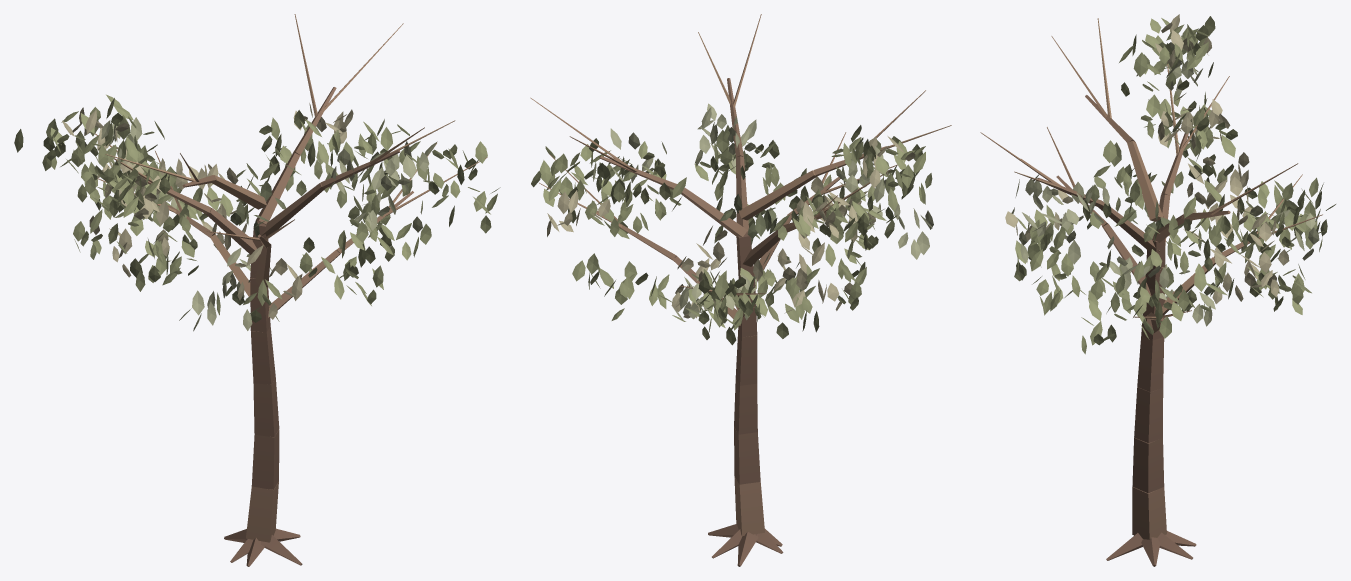
Rendered from tree_3d_03.glb.
3 renders of one model, left to right at view 1: azimuth 30°, elevation 25°; view 2: azimuth 150°, elevation 25°; view 3: azimuth 270°, elevation 25°, orthographic. The views are drawn at different scales.
Parts seen in each view (by area): view 1: tree_3d_03_foliage, tree_3d_03_wood; view 2: tree_3d_03_foliage, tree_3d_03_wood; view 3: tree_3d_03_foliage, tree_3d_03_wood.
Boxes of the visible parts, x1,y1,x2,y2 form: tree_3d_03_foliage: (14,94,500,331); tree_3d_03_wood: (95,14,487,566); tree_3d_03_foliage: (531,103,933,345); tree_3d_03_wood: (530,14,951,566); tree_3d_03_foliage: (1005,14,1335,354); tree_3d_03_wood: (980,18,1322,566).
Bounding box in the file's own units: 10 × 10.5 × 7.4.
